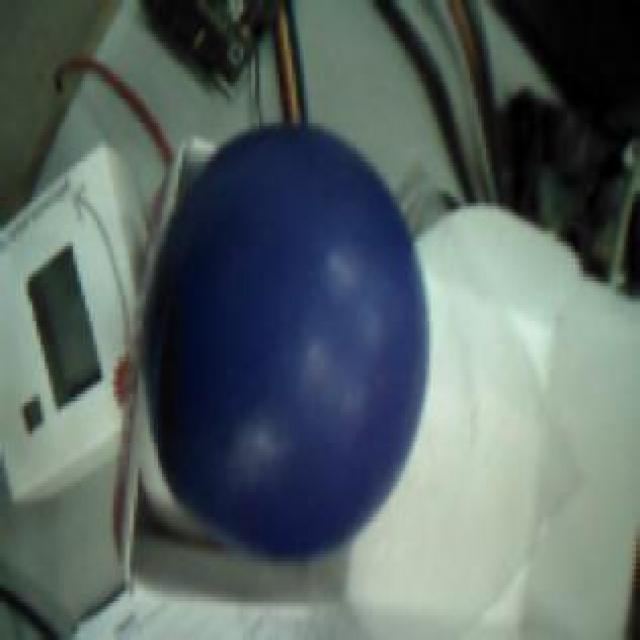BallPurple: (149, 123, 428, 560)
